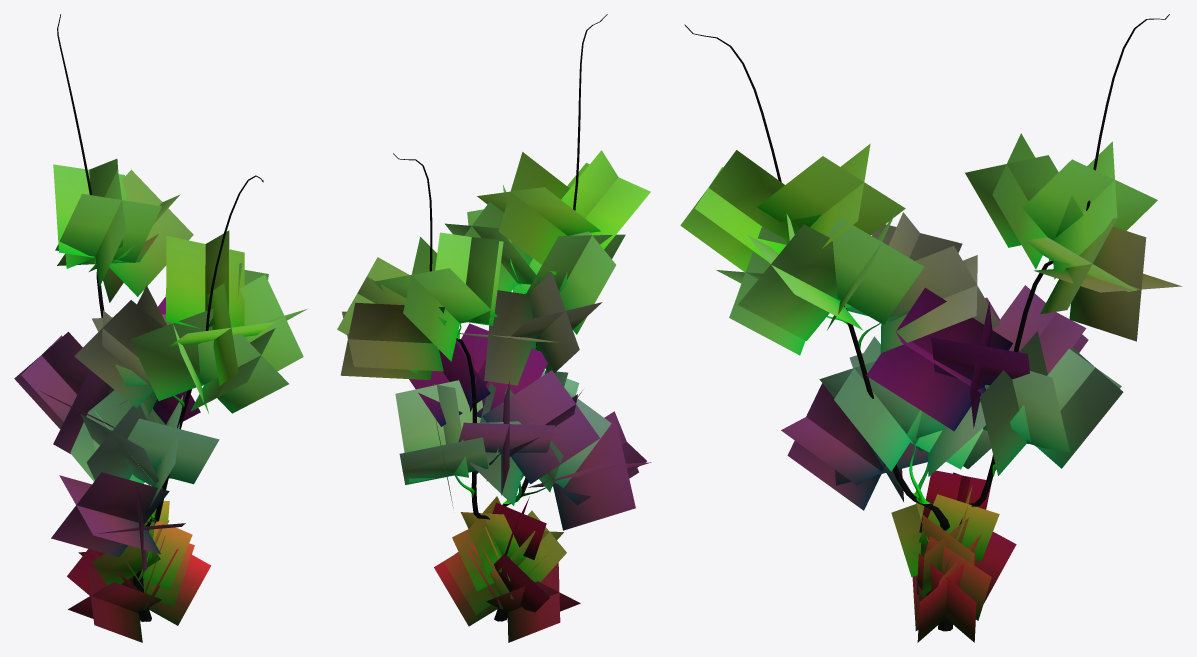
File: URP_P12_Tree_6_LOD_0.fbx
3 renders of one model, left to right at view 1: azimuth 30°, elevation 25°; view 2: azimuth 150°, elevation 25°; view 3: azimuth 270°, elevation 25°, orthographic. The views are drawn at different scales.
Parts seen in each view (by area): view 1: Tree_6_LOD_0; view 2: Tree_6_LOD_0; view 3: Tree_6_LOD_0.
Part boxes in pixels (<box>): Tree_6_LOD_0: <box>14,14,307,642</box>; Tree_6_LOD_0: <box>337,14,651,642</box>; Tree_6_LOD_0: <box>680,14,1181,642</box>.
Size of the model in its own units: 183 by 442 by 318.
